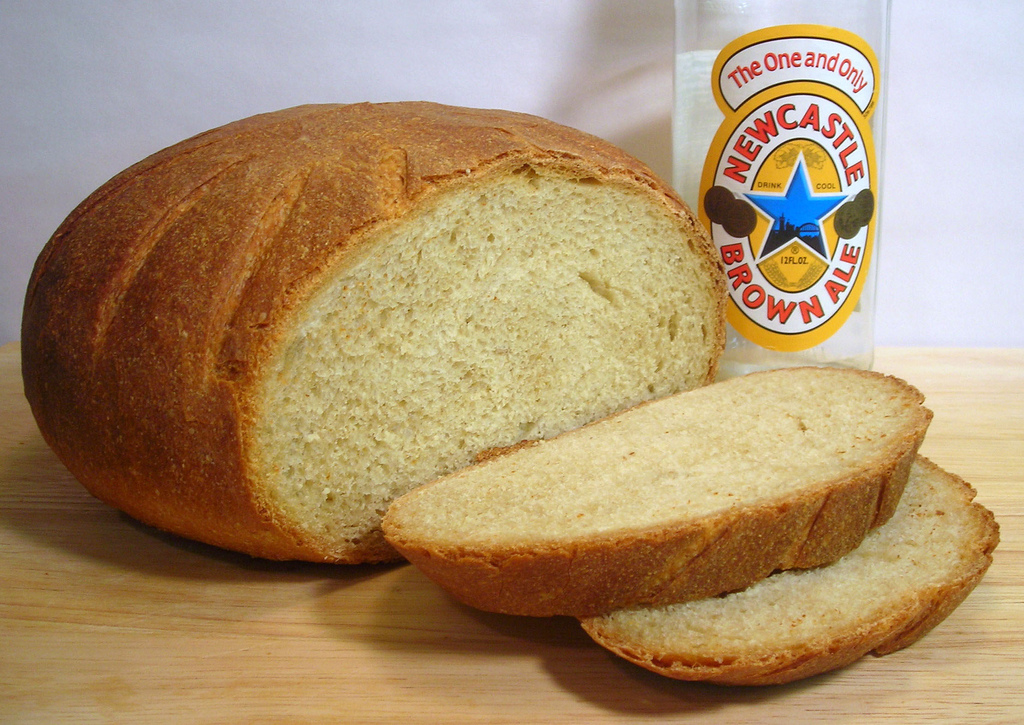slice of bread: (368, 330, 1014, 693)
